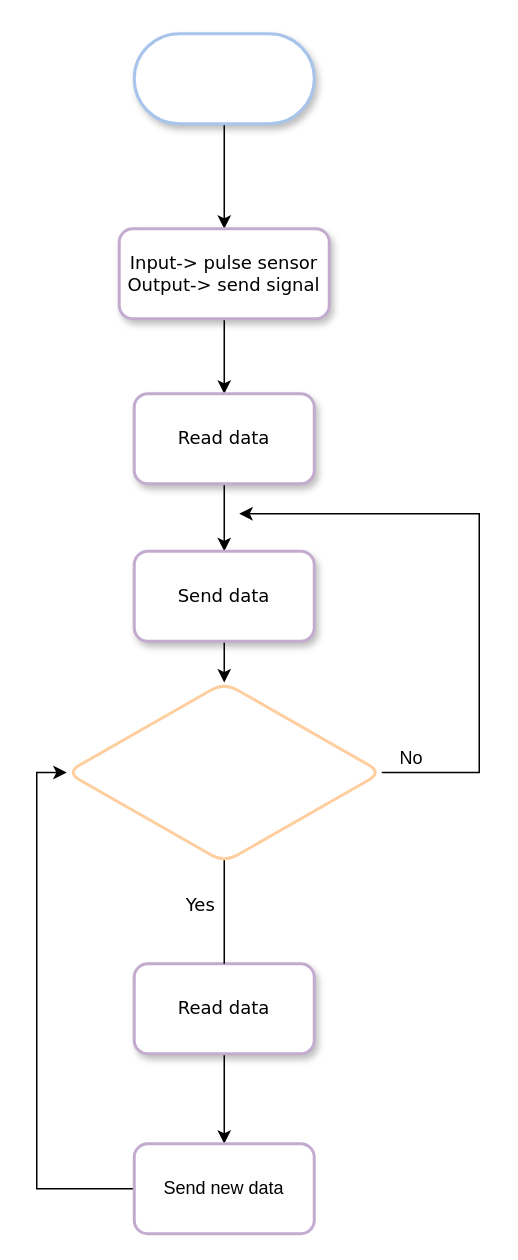
This 518x1260 diagram has some shape labels left out. Here are the shapes that lost their labels. From the top down, the centre of each, then its label:
At (225,80): "START".
At (223,771): "Confirmation recieved?".
